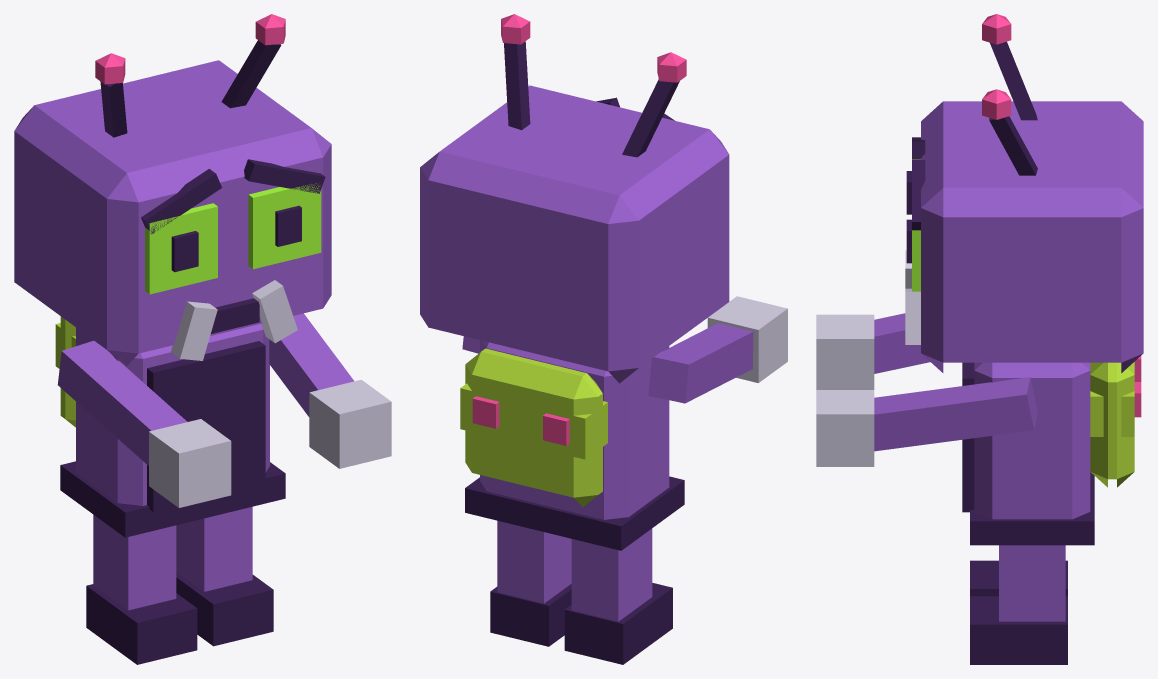
The model's file is grunt_r11.glb.
The picture shows the model from 3 angles, left to right: view 1: azimuth 30°, elevation 25°; view 2: azimuth 150°, elevation 25°; view 3: azimuth 270°, elevation 25°; orthographic projection. The views are drawn at different scales.
Visible parts, largest first — view 1: grunt_r11_mesh; view 2: grunt_r11_mesh; view 3: grunt_r11_mesh.
Boxes of the visible parts, x1,y1,x2,y2 form: grunt_r11_mesh: (14,14,391,664); grunt_r11_mesh: (420,14,787,664); grunt_r11_mesh: (816,14,1143,664).
Bounding box in the file's own units: 0.5933 × 1.5 × 0.7656.
1 material, 1 textured.
